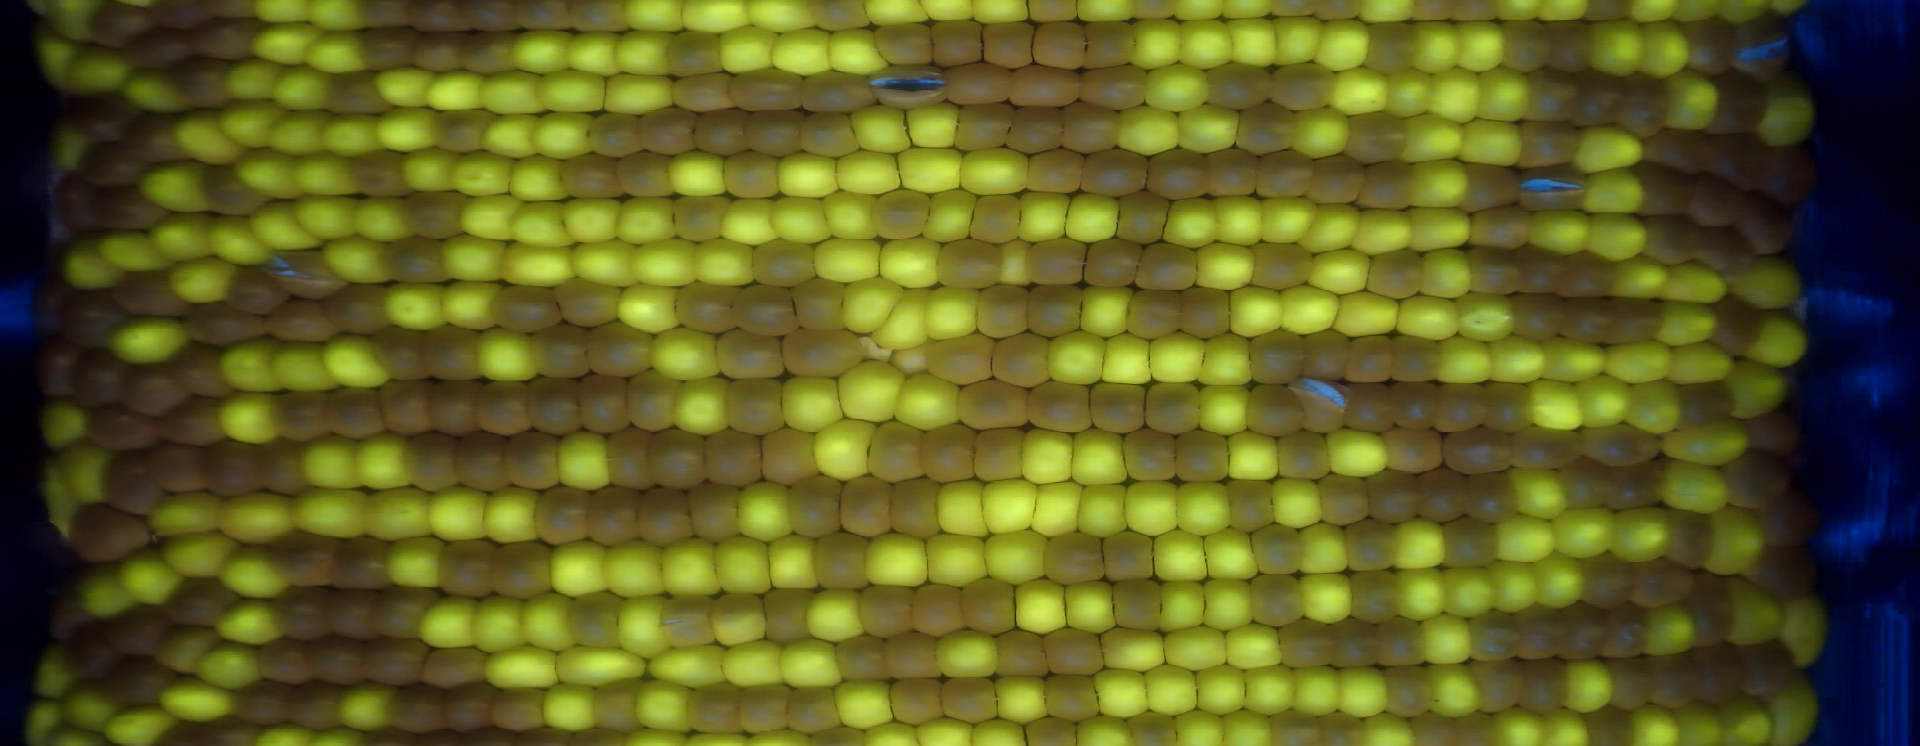fluorescent: (216, 488, 298, 545), (838, 356, 905, 425), (1724, 352, 1791, 418), (471, 320, 540, 385), (323, 328, 393, 392), (776, 370, 847, 432), (551, 429, 617, 495), (1660, 454, 1733, 514), (558, 641, 654, 686), (291, 483, 366, 540), (176, 100, 241, 167), (894, 370, 962, 432), (1667, 418, 1750, 469), (1319, 424, 1392, 481), (216, 544, 289, 601), (107, 314, 189, 365), (362, 485, 433, 544), (602, 539, 669, 601), (1275, 277, 1342, 338), (571, 236, 647, 290), (1708, 507, 1766, 578), (1145, 327, 1210, 390), (733, 478, 796, 543), (660, 533, 721, 599), (1424, 653, 1479, 726), (1734, 257, 1802, 316), (958, 145, 1033, 197), (817, 418, 878, 483), (633, 234, 702, 292), (1070, 425, 1133, 488), (931, 477, 993, 539), (841, 271, 902, 334), (1171, 475, 1234, 537), (549, 538, 610, 601), (1611, 501, 1671, 566), (894, 145, 966, 198), (833, 145, 905, 198), (502, 240, 579, 290), (688, 235, 757, 292), (1730, 572, 1779, 650), (846, 103, 917, 157), (304, 432, 365, 495), (1044, 327, 1104, 391), (613, 281, 680, 338), (651, 322, 719, 379), (1571, 120, 1644, 171), (871, 239, 944, 290), (1660, 254, 1729, 309), (724, 635, 792, 690), (1510, 462, 1569, 526), (424, 481, 487, 540), (238, 143, 302, 201), (1020, 423, 1078, 488), (866, 533, 931, 590), (157, 528, 230, 578), (219, 333, 282, 392), (218, 390, 280, 448), (714, 534, 773, 597), (876, 278, 924, 353), (1605, 334, 1671, 390), (170, 256, 242, 306), (1581, 162, 1649, 214), (457, 195, 525, 247), (1393, 292, 1462, 344), (1461, 111, 1521, 171), (1198, 330, 1258, 390), (468, 593, 527, 654), (1123, 477, 1180, 539), (1161, 624, 1231, 675), (820, 187, 884, 244), (442, 228, 507, 283), (1193, 236, 1258, 292), (520, 590, 576, 655), (144, 159, 212, 212), (1114, 103, 1183, 154), (1538, 334, 1607, 386), (675, 377, 733, 437), (804, 586, 864, 644), (1768, 677, 1820, 746), (1009, 577, 1070, 635), (633, 680, 694, 737), (983, 527, 1046, 583), (928, 528, 992, 583), (1063, 575, 1118, 638), (767, 532, 820, 597), (104, 224, 171, 276), (482, 644, 561, 688), (1620, 379, 1678, 439), (1149, 528, 1209, 586), (709, 590, 767, 650), (1333, 661, 1391, 722), (538, 69, 610, 116), (386, 529, 442, 590), (1417, 611, 1478, 668), (816, 233, 884, 283), (1488, 514, 1556, 565), (1078, 278, 1133, 341), (770, 24, 834, 78), (936, 628, 999, 682), (1398, 111, 1463, 164), (255, 198, 320, 251), (662, 146, 729, 197), (612, 194, 678, 245), (419, 592, 478, 649), (1127, 13, 1187, 70), (563, 187, 623, 244), (1529, 375, 1586, 435), (1031, 478, 1087, 538), (82, 563, 138, 624), (1554, 503, 1614, 560), (1144, 660, 1204, 717), (1160, 196, 1221, 251), (1351, 203, 1412, 258), (1584, 20, 1647, 73), (294, 149, 362, 198), (122, 556, 186, 609), (386, 278, 451, 330), (618, 592, 666, 661), (323, 235, 389, 285), (1456, 285, 1513, 343), (924, 282, 982, 339), (1193, 661, 1250, 719), (1204, 523, 1260, 582), (1749, 314, 1809, 369), (981, 477, 1036, 537), (333, 677, 393, 733), (607, 70, 678, 116), (149, 490, 220, 537), (1183, 100, 1244, 154), (771, 192, 833, 246), (1236, 665, 1297, 719), (1284, 104, 1347, 157), (831, 676, 894, 729), (220, 98, 284, 149), (1336, 288, 1400, 339), (1663, 338, 1731, 386), (168, 675, 236, 723), (647, 644, 725, 686), (1194, 381, 1250, 439), (1476, 64, 1531, 122), (1103, 330, 1157, 390), (1296, 521, 1356, 575), (375, 100, 436, 153), (1524, 203, 1587, 255), (358, 428, 407, 492), (72, 40, 129, 97), (1284, 660, 1341, 717), (1224, 283, 1282, 338), (440, 277, 497, 332), (1487, 333, 1544, 388), (482, 486, 538, 544), (1298, 570, 1356, 625), (828, 27, 887, 81), (1409, 156, 1468, 209), (212, 206, 266, 265), (1307, 197, 1360, 256), (277, 339, 336, 393), (1658, 296, 1718, 349), (1224, 9, 1276, 70), (58, 235, 120, 285), (220, 599, 283, 649), (193, 638, 256, 688), (125, 69, 189, 118), (509, 201, 573, 250), (1780, 598, 1826, 666), (1758, 91, 1815, 146), (1438, 328, 1491, 386), (1275, 474, 1329, 532), (782, 633, 840, 687), (779, 149, 844, 197), (156, 209, 216, 261), (1093, 668, 1153, 719), (1220, 620, 1281, 670), (482, 70, 546, 118), (1418, 247, 1473, 303), (721, 23, 778, 77), (1667, 70, 1719, 127), (920, 187, 977, 240), (1060, 191, 1118, 244), (540, 677, 598, 730), (610, 28, 670, 78), (1607, 254, 1668, 303), (1097, 627, 1167, 670), (1150, 61, 1212, 109), (1018, 187, 1071, 243), (1487, 562, 1540, 617), (1178, 17, 1234, 70), (1224, 430, 1282, 481), (1404, 205, 1469, 250), (1313, 246, 1373, 295), (251, 18, 313, 65), (509, 154, 564, 207), (272, 61, 328, 113), (1200, 578, 1256, 630), (1431, 67, 1482, 125), (992, 675, 1049, 725), (451, 149, 509, 198), (722, 196, 778, 247), (61, 445, 107, 507), (110, 701, 173, 746), (1536, 551, 1586, 608), (1444, 562, 1494, 619), (298, 187, 355, 236), (566, 28, 624, 76), (482, 111, 541, 159), (1255, 195, 1315, 241), (1584, 211, 1644, 257), (907, 98, 961, 149), (1560, 659, 1611, 713), (402, 143, 457, 194), (1270, 12, 1318, 70), (1320, 13, 1368, 71), (1640, 18, 1686, 77), (1076, 485, 1128, 538), (1212, 192, 1262, 246), (373, 65, 435, 109), (1576, 372, 1625, 428), (1644, 599, 1693, 654), (538, 113, 594, 160), (508, 29, 572, 71), (313, 27, 367, 76), (1456, 18, 1502, 75), (269, 109, 326, 156), (62, 686, 113, 737), (1397, 570, 1446, 622), (326, 114, 386, 157), (1414, 20, 1461, 75), (40, 459, 73, 537), (429, 67, 486, 111), (1156, 578, 1205, 630), (1389, 67, 1434, 122), (356, 196, 409, 243), (1397, 517, 1444, 570), (34, 36, 78, 91), (47, 402, 96, 451), (1724, 695, 1768, 746), (1491, 707, 1549, 746), (1333, 70, 1384, 111), (53, 125, 92, 178), (1629, 703, 1676, 746), (1676, 698, 1718, 746), (34, 653, 73, 703), (231, 60, 280, 99), (1540, 708, 1589, 746), (24, 703, 65, 746)
nonfluorescent: (71, 506, 158, 563), (268, 529, 345, 593), (200, 428, 266, 501), (500, 424, 564, 496), (779, 323, 866, 377), (866, 416, 931, 488), (273, 244, 349, 304), (636, 481, 699, 552), (100, 644, 171, 708), (713, 327, 789, 386), (1578, 419, 1665, 469), (1020, 236, 1097, 293), (1725, 450, 1794, 512), (789, 472, 851, 540), (115, 269, 193, 323), (742, 238, 820, 292), (702, 425, 767, 490), (720, 375, 787, 437), (584, 481, 647, 549), (1745, 633, 1798, 713), (552, 274, 628, 330), (1686, 570, 1736, 653), (800, 64, 873, 120), (924, 330, 998, 386), (324, 377, 387, 443), (589, 320, 658, 380), (949, 577, 1018, 637), (1689, 639, 1747, 709), (1753, 540, 1818, 603), (454, 423, 509, 496), (1572, 551, 1638, 612), (375, 375, 433, 443), (531, 480, 589, 550), (578, 367, 634, 439), (405, 424, 462, 495), (686, 477, 747, 541), (96, 176, 162, 236), (1089, 377, 1155, 437), (489, 281, 562, 334), (838, 472, 896, 539), (1247, 382, 1315, 440), (486, 541, 555, 599), (1044, 529, 1113, 587), (1618, 66, 1668, 145), (1004, 59, 1082, 109), (1021, 380, 1096, 432), (855, 579, 918, 641), (333, 533, 398, 593), (220, 265, 293, 318), (324, 281, 397, 334), (1133, 238, 1199, 296), (1735, 12, 1793, 80), (421, 318, 479, 386), (1671, 375, 1739, 432), (160, 575, 234, 627), (430, 99, 498, 156), (936, 235, 1004, 292), (92, 398, 162, 453), (654, 423, 709, 492), (400, 186, 471, 240), (924, 416, 978, 488), (687, 99, 749, 160), (1144, 376, 1205, 439), (1336, 514, 1400, 575), (564, 586, 623, 650), (1342, 107, 1408, 164), (381, 229, 447, 287), (200, 162, 267, 218), (677, 281, 744, 337), (940, 53, 1010, 107), (1288, 372, 1349, 434), (733, 281, 796, 341), (534, 322, 596, 382), (1340, 330, 1400, 392), (1107, 575, 1167, 637), (1079, 145, 1150, 197), (1678, 169, 1742, 227), (624, 366, 681, 432), (280, 676, 347, 733), (729, 65, 804, 114), (605, 425, 658, 495), (99, 454, 160, 514), (1509, 601, 1570, 661), (158, 390, 220, 448), (433, 538, 496, 597), (1044, 625, 1107, 684), (1414, 461, 1472, 524), (813, 529, 871, 593), (970, 423, 1026, 488), (1342, 567, 1407, 624), (1194, 146, 1262, 198), (1458, 156, 1518, 216), (1555, 454, 1615, 514), (989, 330, 1051, 388), (529, 375, 587, 437), (1173, 425, 1236, 483), (268, 582, 331, 639), (326, 583, 383, 646), (269, 296, 339, 348), (1146, 145, 1210, 201), (1633, 552, 1697, 609), (1367, 465, 1423, 529), (960, 379, 1025, 434), (1247, 239, 1314, 292), (1441, 424, 1509, 477), (1509, 423, 1581, 472), (869, 18, 938, 70), (1267, 60, 1336, 111), (1709, 290, 1761, 359), (1517, 162, 1586, 213), (1250, 570, 1310, 628), (763, 425, 819, 488), (871, 59, 944, 107), (62, 288, 118, 352), (186, 301, 266, 345), (1660, 507, 1716, 571), (184, 16, 261, 61), (1202, 62, 1277, 109), (1098, 527, 1157, 586), (124, 360, 184, 418), (1342, 377, 1400, 437), (684, 677, 744, 735), (69, 349, 130, 405), (367, 320, 424, 381), (589, 676, 645, 737), (1078, 61, 1146, 111), (1682, 20, 1738, 82), (1756, 141, 1810, 205), (1747, 186, 1794, 260), (891, 477, 944, 541), (1713, 69, 1764, 135), (720, 149, 786, 201), (1704, 130, 1763, 187), (1482, 379, 1539, 437), (1434, 379, 1491, 437), (1120, 424, 1178, 483), (1318, 469, 1375, 528), (740, 107, 807, 157), (1002, 100, 1062, 157), (479, 379, 535, 439), (1247, 327, 1302, 388), (307, 635, 370, 688), (1382, 659, 1435, 723), (1178, 278, 1229, 343), (1025, 283, 1082, 341), (1060, 99, 1119, 156), (1368, 245, 1427, 301), (1276, 617, 1335, 674), (433, 677, 492, 734), (129, 107, 189, 162), (1234, 100, 1294, 156), (1356, 157, 1417, 211), (975, 282, 1029, 343), (1512, 118, 1575, 170), (1460, 246, 1523, 298), (1029, 16, 1086, 72), (175, 339, 231, 397), (267, 387, 324, 443), (587, 104, 645, 159), (1633, 160, 1689, 219), (658, 592, 713, 650), (1603, 657, 1652, 723), (362, 635, 429, 684), (1640, 206, 1693, 266), (562, 149, 623, 202), (779, 682, 840, 735), (738, 680, 800, 733), (256, 432, 307, 495), (1463, 464, 1515, 527), (1646, 648, 1696, 712), (1086, 234, 1141, 292), (1127, 288, 1184, 343), (1611, 454, 1667, 512), (992, 627, 1049, 682), (636, 103, 696, 156), (378, 586, 438, 638), (910, 579, 962, 639), (1371, 616, 1431, 669), (1571, 69, 1622, 130), (872, 190, 934, 240), (888, 676, 950, 726), (1329, 612, 1378, 676), (418, 643, 486, 688), (1387, 332, 1444, 387), (1524, 65, 1578, 122), (1113, 191, 1171, 245), (884, 628, 942, 682), (967, 187, 1020, 246), (1500, 20, 1551, 80), (1302, 327, 1351, 390), (1560, 599, 1609, 661), (793, 277, 849, 332), (617, 148, 675, 201), (1513, 241, 1566, 299), (1441, 514, 1499, 567), (1363, 18, 1413, 78), (1305, 153, 1365, 203), (389, 681, 444, 735), (69, 626, 124, 680), (1558, 292, 1614, 344), (1251, 522, 1308, 575), (940, 674, 1004, 720), (1515, 657, 1566, 714), (80, 137, 144, 183), (1467, 608, 1515, 669), (933, 20, 988, 72), (1276, 429, 1331, 481), (1607, 296, 1663, 348), (949, 100, 1007, 151), (255, 637, 312, 687), (70, 89, 129, 138), (429, 380, 478, 439), (980, 18, 1033, 71), (675, 191, 729, 244), (760, 587, 814, 639), (54, 171, 97, 238), (1256, 145, 1311, 196), (1560, 246, 1610, 303), (1223, 474, 1273, 530), (1464, 657, 1515, 713), (672, 70, 736, 114), (1510, 287, 1558, 345), (493, 686, 552, 734), (1544, 12, 1587, 77), (1386, 430, 1447, 475), (411, 27, 465, 78), (1692, 217, 1744, 271), (355, 149, 411, 198), (130, 27, 192, 71), (1468, 206, 1531, 250), (1024, 148, 1082, 195), (111, 601, 162, 655), (1752, 499, 1813, 543), (157, 441, 204, 497), (1739, 408, 1798, 453), (463, 29, 514, 81), (804, 107, 857, 157), (234, 675, 287, 725), (1393, 379, 1442, 432), (360, 24, 415, 72), (1079, 18, 1134, 66), (1044, 671, 1100, 719), (176, 55, 227, 107), (667, 29, 725, 73), (838, 635, 887, 686), (1604, 601, 1646, 661), (323, 75, 387, 114), (1649, 122, 1700, 171), (38, 343, 80, 399), (141, 1, 203, 38), (1125, 709, 1184, 746), (93, 4, 144, 45), (1270, 703, 1319, 746), (34, 277, 66, 342), (51, 590, 84, 638)
